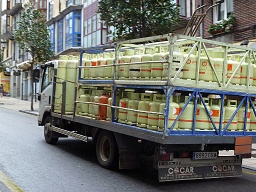truck: (37, 40, 256, 185)
